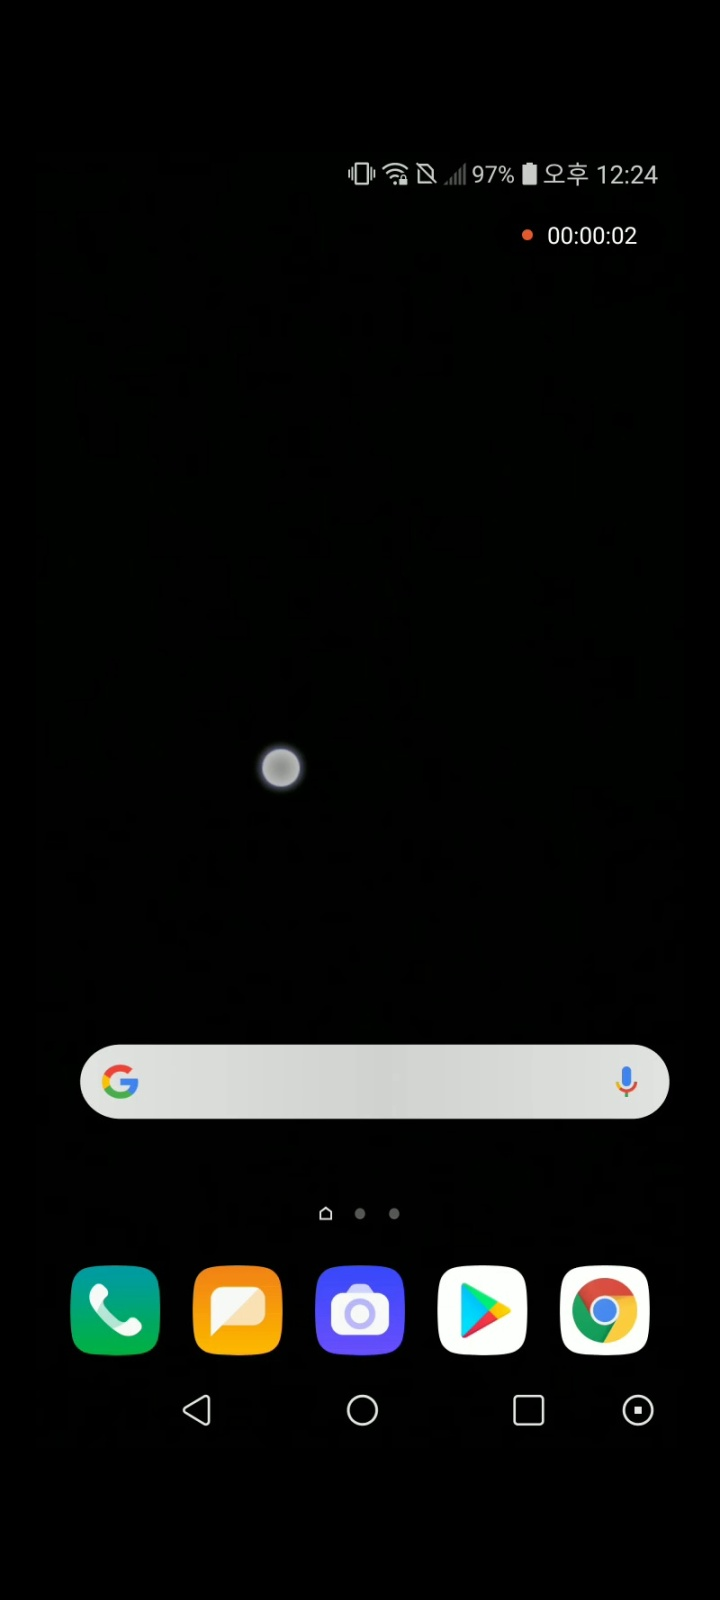Cursor: (260, 746, 305, 791)
